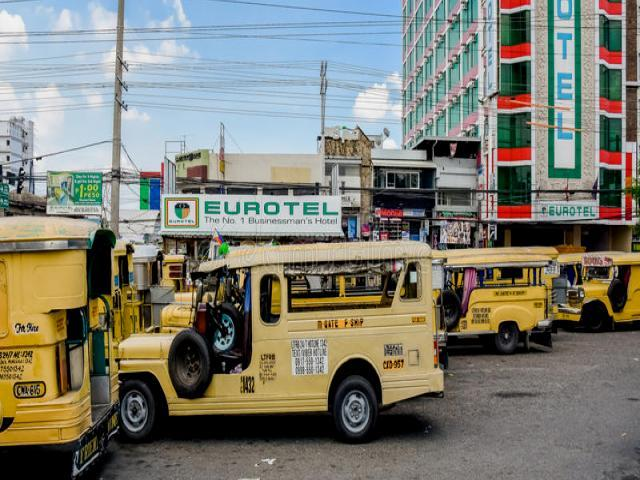jeepney: (130, 246, 450, 448), (1, 209, 132, 475), (441, 239, 557, 364), (560, 244, 640, 334)
